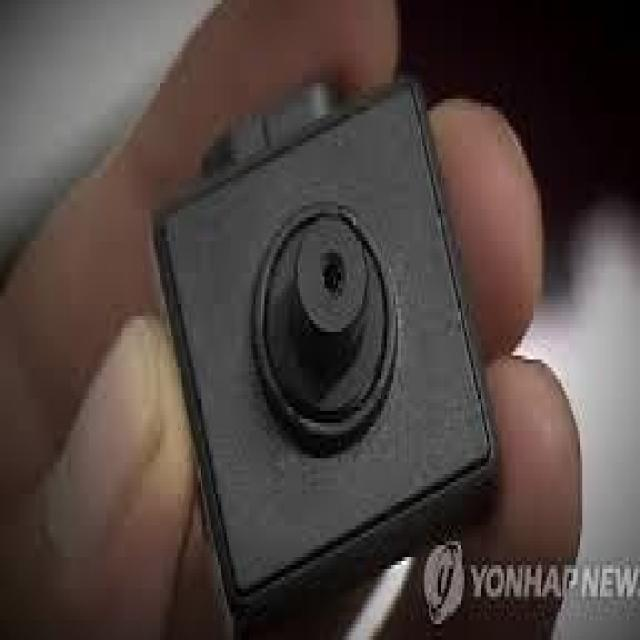hidden camera: (288, 201, 371, 344)
